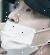mask_weared_incorrect: (1, 2, 50, 55)
